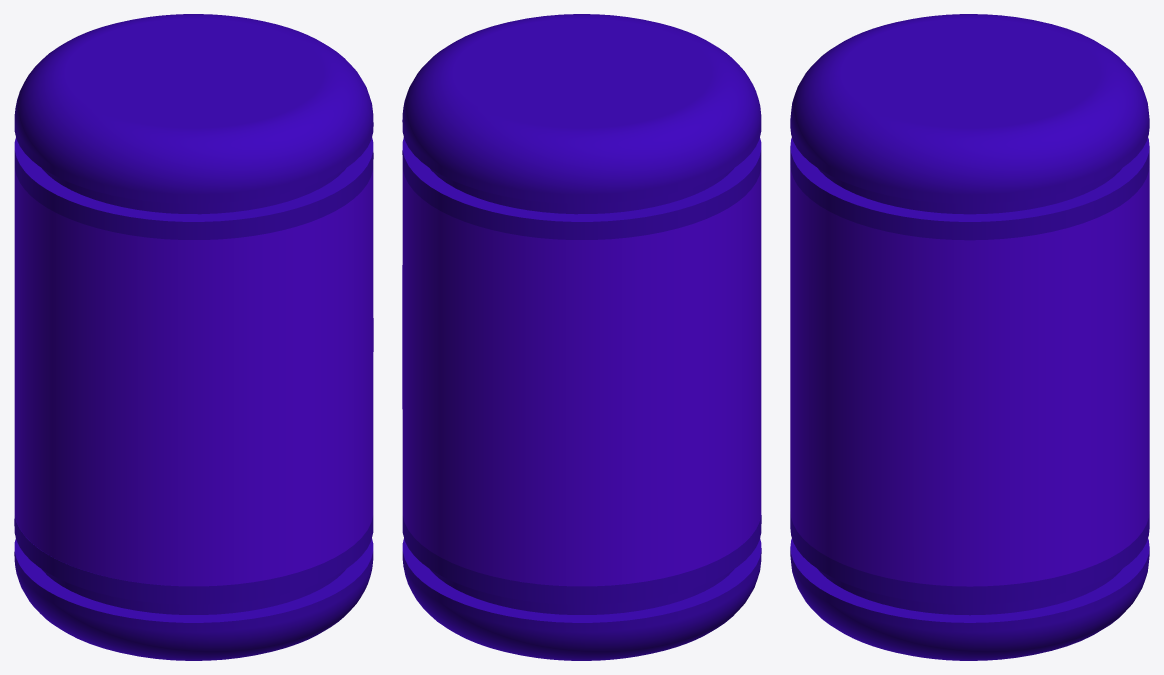
Rendered from elevator.glb.
3 views of the same model, side by side, from view 1: azimuth 30°, elevation 25°; view 2: azimuth 150°, elevation 25°; view 3: azimuth 270°, elevation 25° (orthographic).
Parts seen in each view (by area): view 1: Body4, Body1, Body2; view 2: Body4, Body1, Body2; view 3: Body4, Body1, Body2.
Part boxes in pixels (x1,y1,x2,y2): Body4: [14, 168, 373, 586]; Body1: [14, 14, 373, 239]; Body2: [14, 515, 373, 660]; Body4: [402, 168, 761, 586]; Body1: [402, 14, 761, 239]; Body2: [402, 515, 761, 660]; Body4: [790, 165, 1149, 586]; Body1: [790, 14, 1149, 240]; Body2: [790, 511, 1149, 660].
Bounding box in the file's own units: 0.0357 × 0.058 × 0.0357.
